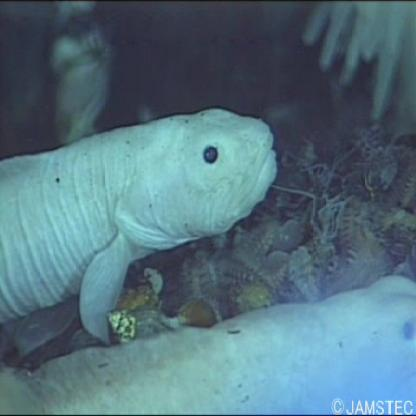Bio: (1, 103, 281, 344)
